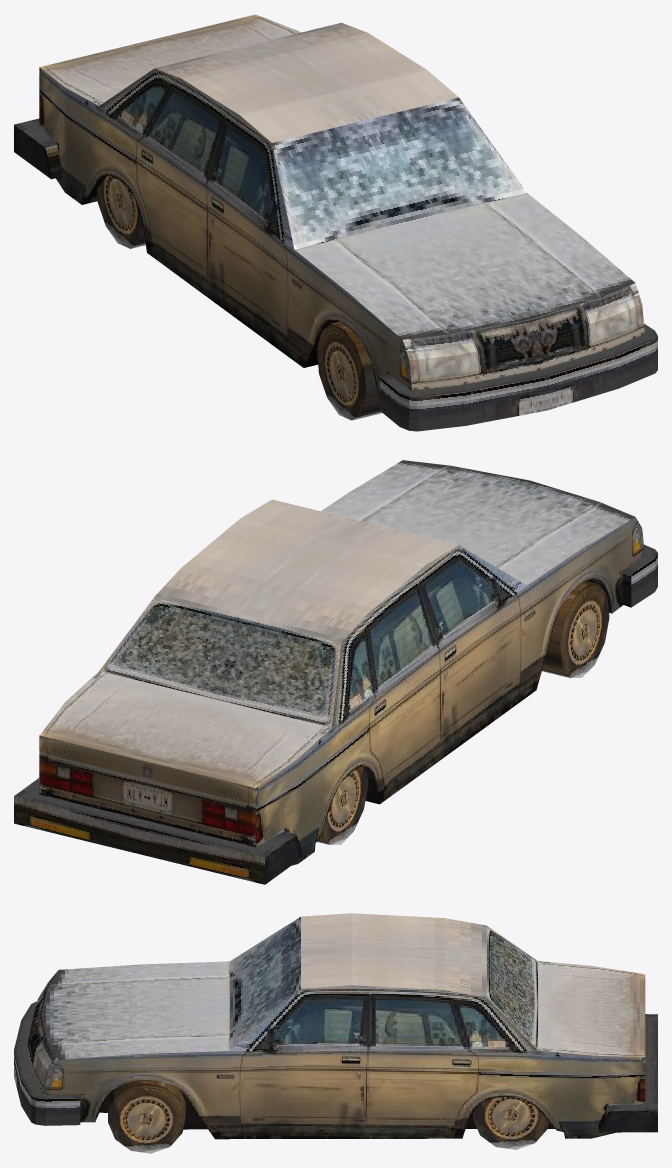
The model's file is volvo.glb.
3 renders of one model, top to bottom at view 1: azimuth 30°, elevation 25°; view 2: azimuth 150°, elevation 25°; view 3: azimuth 270°, elevation 25°, orthographic. The views are drawn at different scales.
Visible parts, largest first — view 1: Plane; view 2: Plane; view 3: Plane.
Part boxes in pixels (x1,y1,x2,y2): Plane: (14, 14, 657, 431); Plane: (14, 460, 657, 884); Plane: (14, 913, 657, 1153).
Bounding box in the file's own units: 8.04 × 6.01 × 22.26.
1 material, 1 textured.
